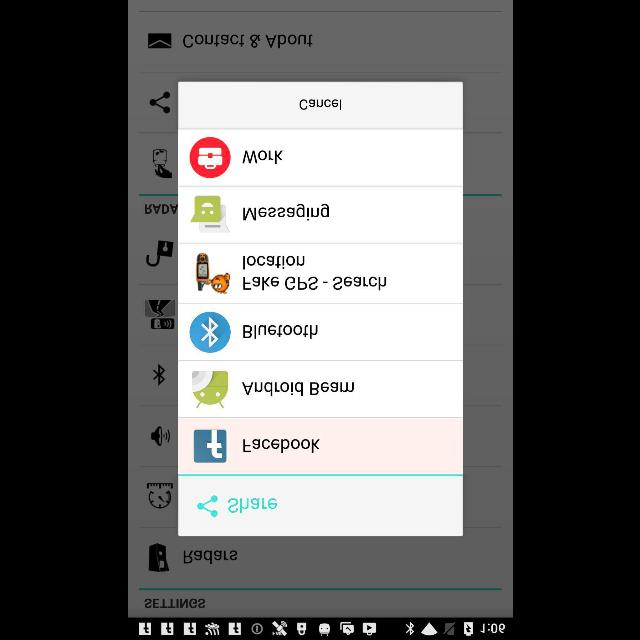icon: (188, 312, 230, 352), (188, 138, 230, 178), (192, 430, 225, 462), (148, 91, 170, 113), (197, 495, 217, 517), (148, 34, 170, 48), (153, 364, 165, 384)
image: (194, 252, 230, 294), (190, 195, 230, 232), (192, 372, 228, 408), (144, 300, 174, 328), (146, 482, 172, 508), (146, 240, 172, 266), (148, 542, 168, 572), (152, 148, 172, 178), (150, 426, 170, 446)
panel: (178, 82, 462, 536)
text: (242, 256, 386, 290), (182, 34, 312, 48), (242, 382, 352, 396), (242, 203, 328, 220), (243, 325, 317, 339), (244, 439, 318, 453), (228, 498, 276, 514), (183, 550, 237, 564), (143, 598, 204, 608), (242, 150, 282, 164), (144, 204, 176, 213)
textbutton: (178, 82, 462, 128)
uppertaskbar: (128, 617, 512, 639)
